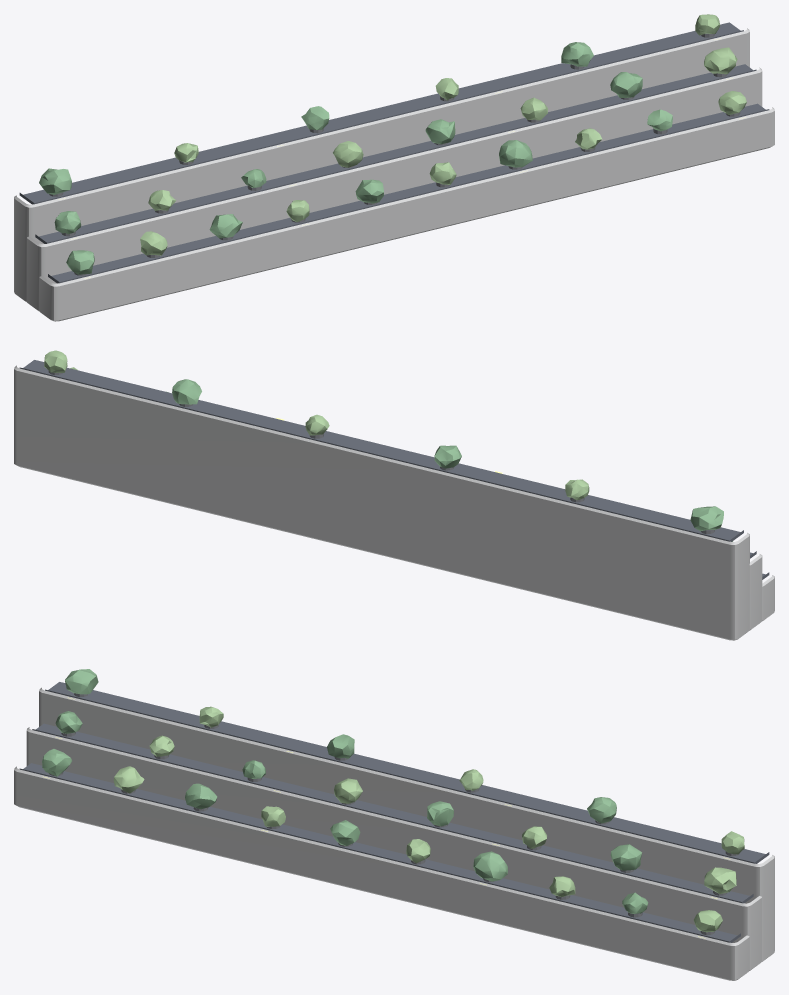
The model's file is iter_03.glb.
3 renders of one model, top to bottom at view 1: azimuth 30°, elevation 25°; view 2: azimuth 150°, elevation 25°; view 3: azimuth 330°, elevation 25°, orthographic.
Visible parts, largest first — view 1: Tiers, Tier_Lids, Foliage, Foliage_Light, Net_Cups; view 2: Tiers, Tier_Lids, Foliage, Foliage_Light; view 3: Tiers, Tier_Lids, Foliage, Foliage_Light, Net_Cups.
Boxes of the visible parts, bbox=[...] form: Tiers: bbox=[14, 28, 774, 321]; Tier_Lids: bbox=[19, 22, 769, 283]; Foliage: bbox=[39, 42, 672, 274]; Foliage_Light: bbox=[140, 14, 746, 255]; Net_Cups: bbox=[49, 34, 740, 275]; Tiers: bbox=[14, 365, 774, 640]; Tier_Lids: bbox=[19, 360, 769, 579]; Foliage: bbox=[166, 379, 732, 541]; Foliage_Light: bbox=[44, 350, 589, 500]; Tiers: bbox=[14, 687, 774, 980]; Tier_Lids: bbox=[19, 682, 769, 942]; Foliage: bbox=[42, 669, 648, 913]; Foliage_Light: bbox=[113, 706, 744, 932]; Net_Cups: bbox=[49, 693, 739, 935].
Size of the model in its own units: 4 by 0.638 by 0.4006.
